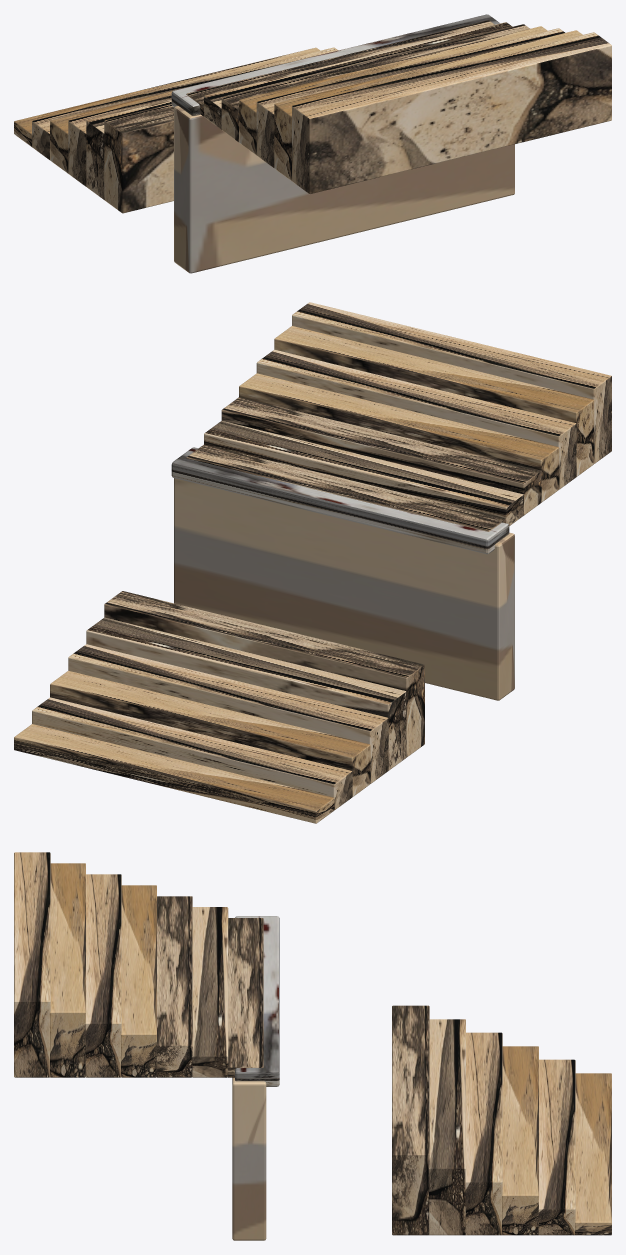
Rendered from stairs_broken_mantle_LOD1.glb.
The picture shows the model from 3 angles, top to bottom: view 1: azimuth 30°, elevation 25°; view 2: azimuth 150°, elevation 25°; view 3: azimuth 270°, elevation 25°; orthographic projection.
Parts seen in each view (by area): view 1: LOD1_high.006, LOD1_MantleFace, LOD1_low.005, LOD1_high.005, LOD1_high.004, LOD1_high.003, LOD1_high.002, LOD1_MantleLip, LOD1_high.001, LOD1_high, LOD1_low.001, LOD1_low (+3 smaller); view 2: LOD1_MantleFace, LOD1_low.005, LOD1_low.004, LOD1_low.003, LOD1_low.002, LOD1_low.001, LOD1_high.006, LOD1_high.005, LOD1_low, LOD1_high.004, LOD1_high.003, LOD1_high.002 (+3 smaller); view 3: LOD1_low.005, LOD1_high.006, LOD1_low.004, LOD1_high.005, LOD1_low.003, LOD1_high.004, LOD1_low.002, LOD1_high.003, LOD1_high.002, LOD1_low.001, LOD1_high.001, LOD1_low (+3 smaller).
Boxes of the visible parts, x1=… form: LOD1_high.006: x1=292, y1=32, x2=611, y2=193; LOD1_MantleFace: x1=174, y1=106, x2=514, y2=273; LOD1_low.005: x1=104, y1=104, x2=173, y2=213; LOD1_high.005: x1=274, y1=30, x2=582, y2=180; LOD1_high.004: x1=256, y1=28, x2=564, y2=167; LOD1_high.003: x1=239, y1=26, x2=547, y2=155; LOD1_high.002: x1=221, y1=24, x2=529, y2=142; LOD1_MantleLip: x1=171, y1=14, x2=500, y2=115; LOD1_high.001: x1=204, y1=22, x2=512, y2=129; LOD1_high: x1=186, y1=20, x2=494, y2=116; LOD1_low.001: x1=32, y1=47, x2=338, y2=159; LOD1_low: x1=14, y1=47, x2=319, y2=146; LOD1_MantleFace: x1=174, y1=478, x2=514, y2=700; LOD1_low.005: x1=104, y1=591, x2=424, y2=757; LOD1_low.004: x1=86, y1=617, x2=406, y2=770; LOD1_low.003: x1=68, y1=644, x2=388, y2=783; LOD1_low.002: x1=50, y1=671, x2=370, y2=796; LOD1_low.001: x1=32, y1=697, x2=352, y2=810; LOD1_high.006: x1=292, y1=302, x2=611, y2=463; LOD1_high.005: x1=274, y1=326, x2=594, y2=476; LOD1_low: x1=14, y1=724, x2=334, y2=823; LOD1_high.004: x1=256, y1=349, x2=576, y2=489; LOD1_high.003: x1=239, y1=373, x2=559, y2=502; LOD1_high.002: x1=221, y1=397, x2=541, y2=515; LOD1_low.005: x1=392, y1=1005, x2=429, y2=1235; LOD1_high.006: x1=14, y1=852, x2=50, y2=1077; LOD1_low.004: x1=429, y1=1019, x2=465, y2=1235; LOD1_high.005: x1=50, y1=863, x2=85, y2=1077; LOD1_low.003: x1=465, y1=1032, x2=502, y2=1235; LOD1_high.004: x1=85, y1=874, x2=121, y2=1077; LOD1_low.002: x1=502, y1=1046, x2=538, y2=1235; LOD1_high.003: x1=121, y1=885, x2=156, y2=1077; LOD1_high.002: x1=156, y1=896, x2=192, y2=1077; LOD1_low.001: x1=538, y1=1059, x2=575, y2=1235; LOD1_high.001: x1=192, y1=907, x2=228, y2=1077; LOD1_low: x1=575, y1=1073, x2=611, y2=1235.
Bounding box in the file's own units: 3.82 × 2.6 × 6.01.
3 materials, 3 textured.
